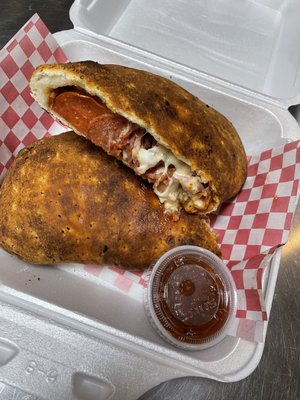soup: (28, 60, 247, 216)
